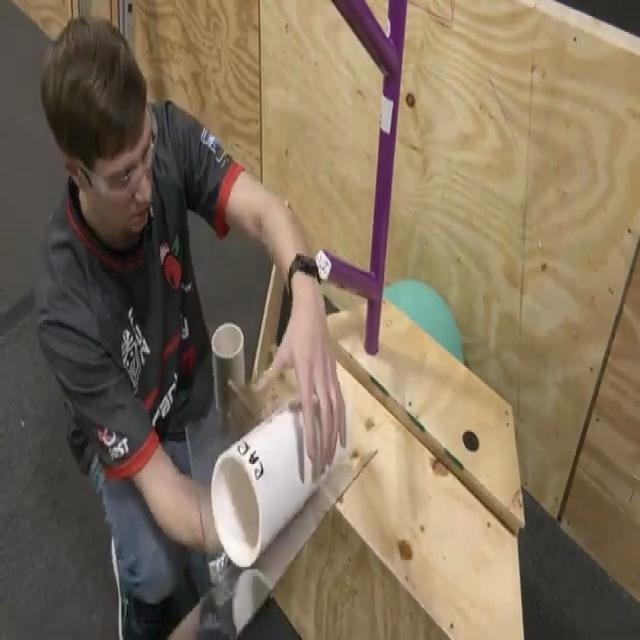Coral: (209, 395, 345, 569), (210, 321, 246, 416)
